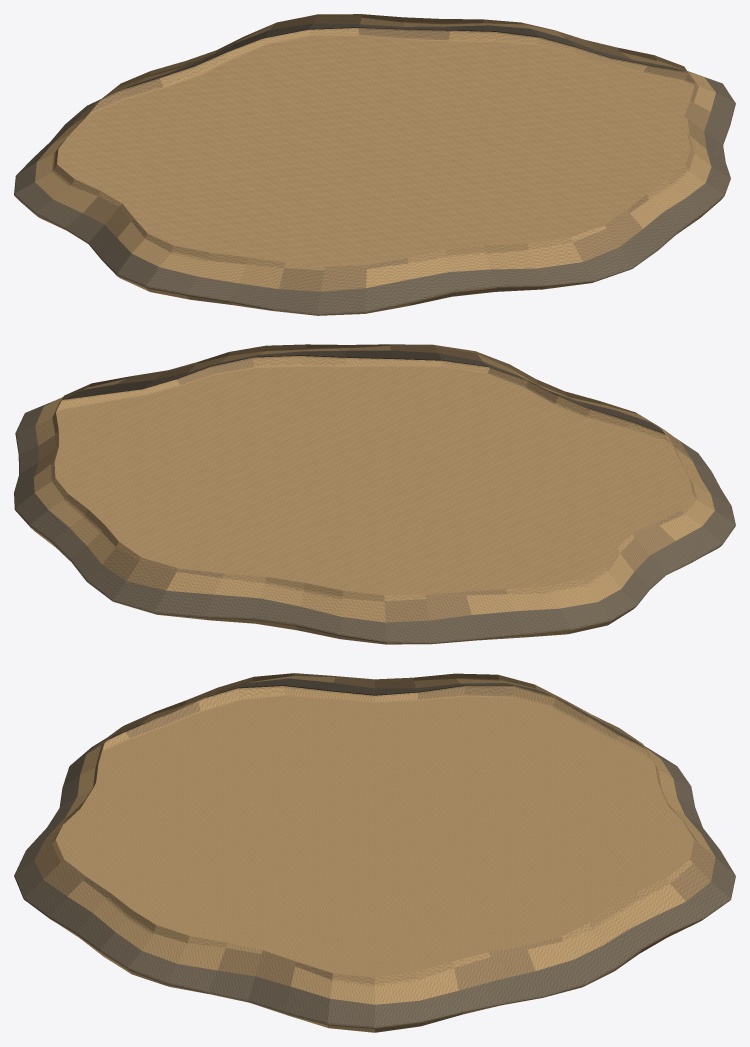
File: Cliff_Lower.fbx
The picture shows the model from 3 angles, top to bottom: view 1: azimuth 30°, elevation 25°; view 2: azimuth 150°, elevation 25°; view 3: azimuth 270°, elevation 25°; orthographic projection. The views are drawn at different scales.
Parts seen in each view (by area): view 1: Cliff_Lower; view 2: Cliff_Lower; view 3: Cliff_Lower.
Part boxes in pixels (bbox=[...]): Cliff_Lower: bbox=[14, 14, 735, 315]; Cliff_Lower: bbox=[14, 344, 735, 644]; Cliff_Lower: bbox=[14, 673, 735, 1032].
Size of the model in its own units: 8103 by 7185 by 420.
